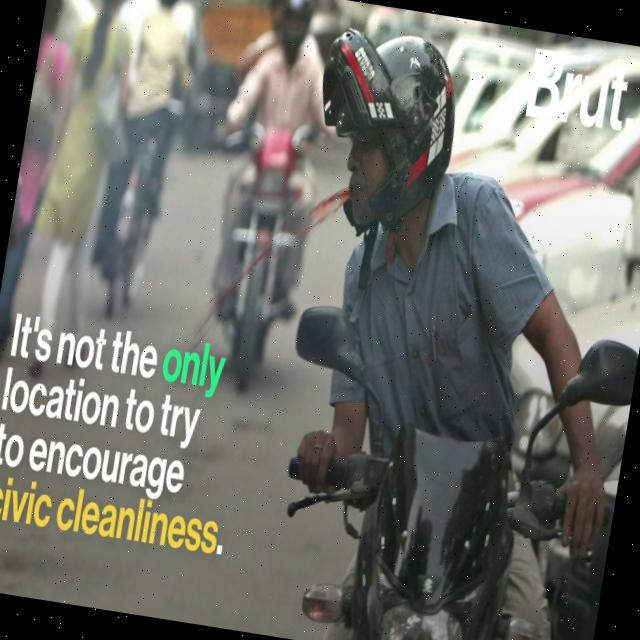spit: (179, 154, 393, 362)
